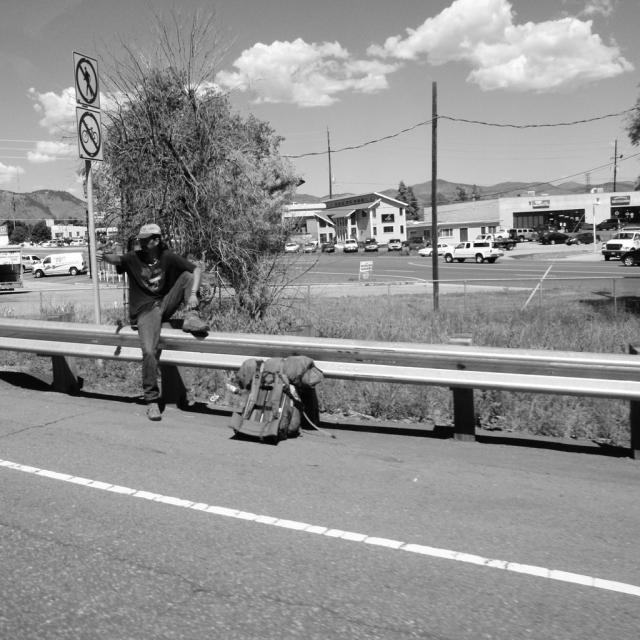car: (415, 244, 446, 255), (281, 242, 301, 255), (339, 240, 355, 255), (301, 242, 315, 254), (323, 241, 334, 254), (363, 240, 376, 251), (386, 241, 405, 248)
